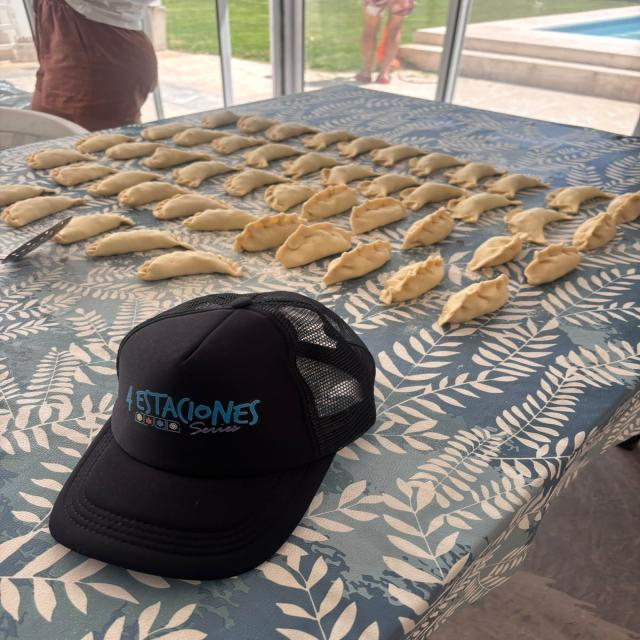Gorra: (32, 283, 385, 597)
